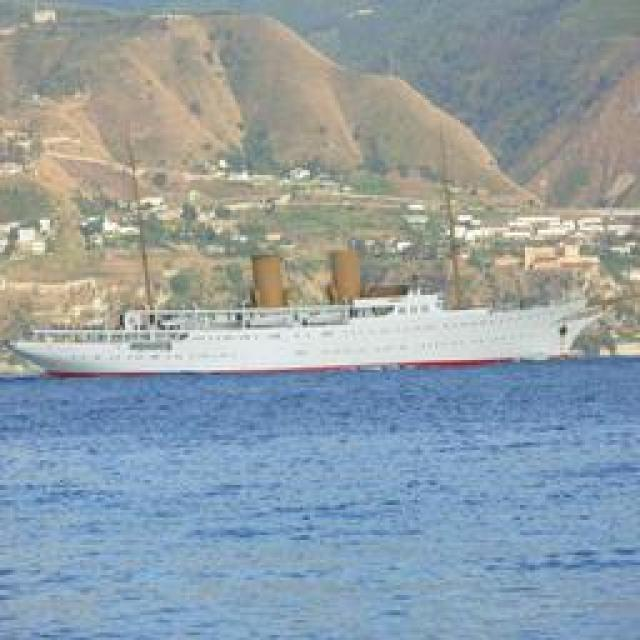CIV_Ship: (19, 295, 584, 380)
